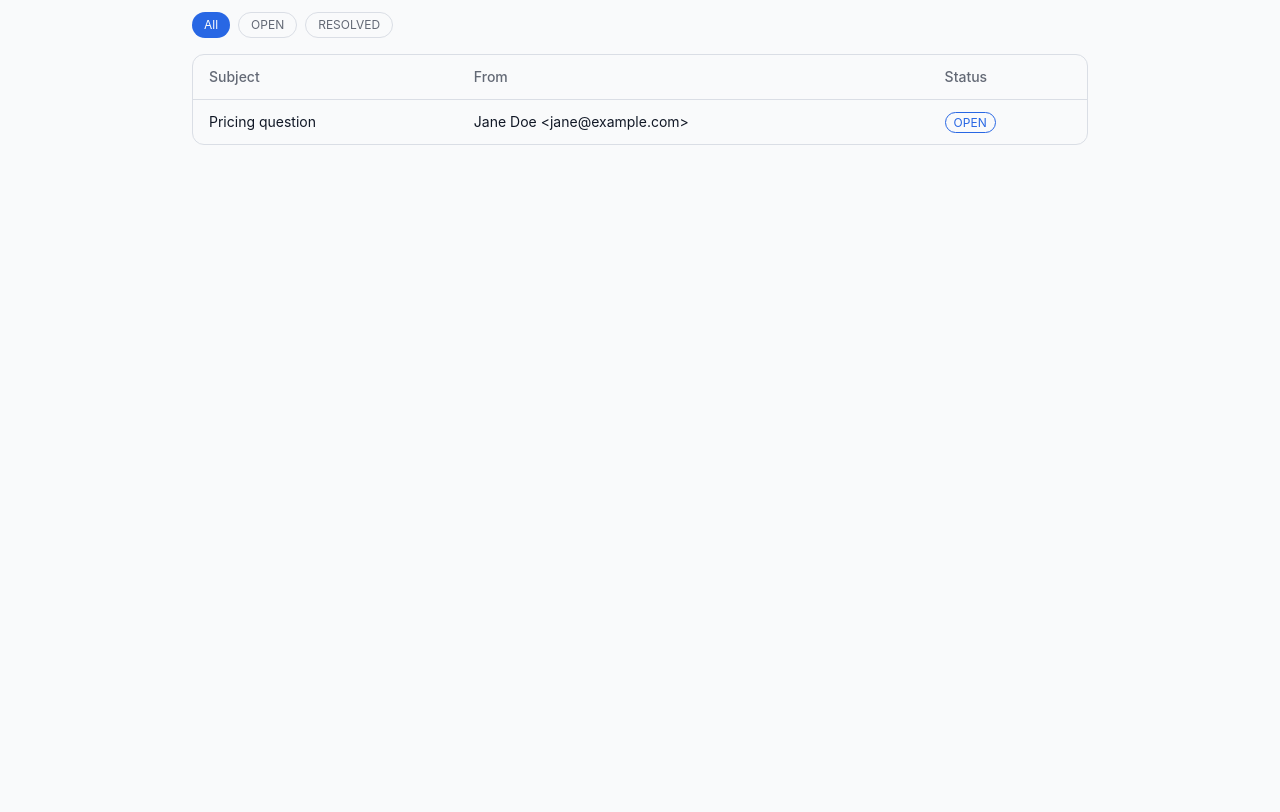
Test: InboxPage › opens the drawer for the selected message on row click
Click the text "Pricing question" at (262, 122), box left=193, top=100, right=458, bottom=144
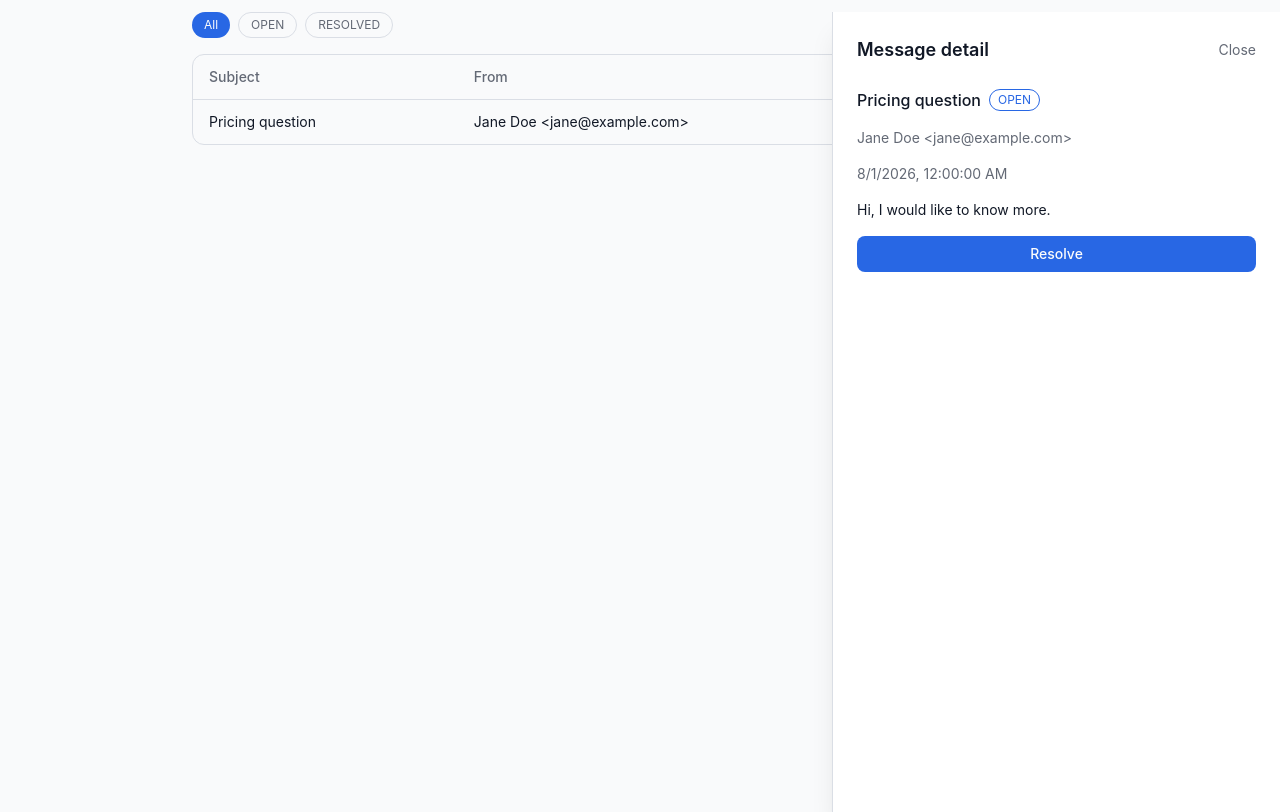
Expected: the heading "Message detail" is shown, left=857, top=36, right=989, bottom=64
Expected: the text "Hi, I would like to know more." is shown, left=857, top=201, right=1051, bottom=218
